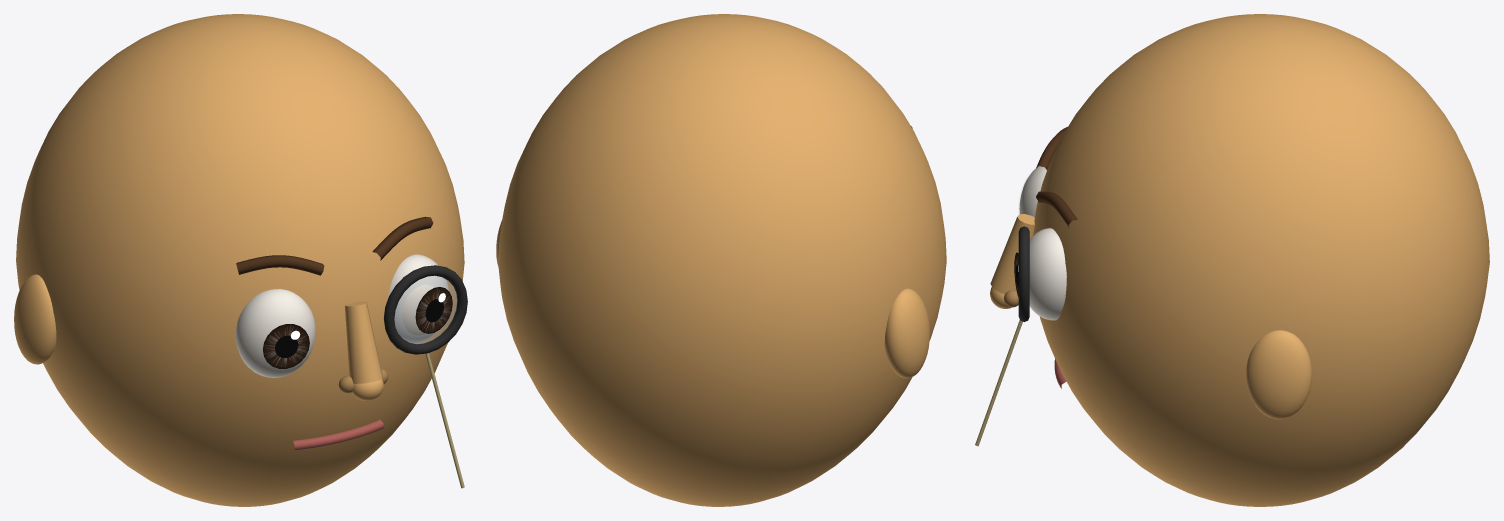
The model's file is 06-monocle.glb.
3 views of the same model, side by side, from view 1: azimuth 30°, elevation 25°; view 2: azimuth 150°, elevation 25°; view 3: azimuth 270°, elevation 25° (orthographic).
Size of the model in its own units: 0.3087 by 0.321 by 0.3261.
12 materials, 1 textured.
